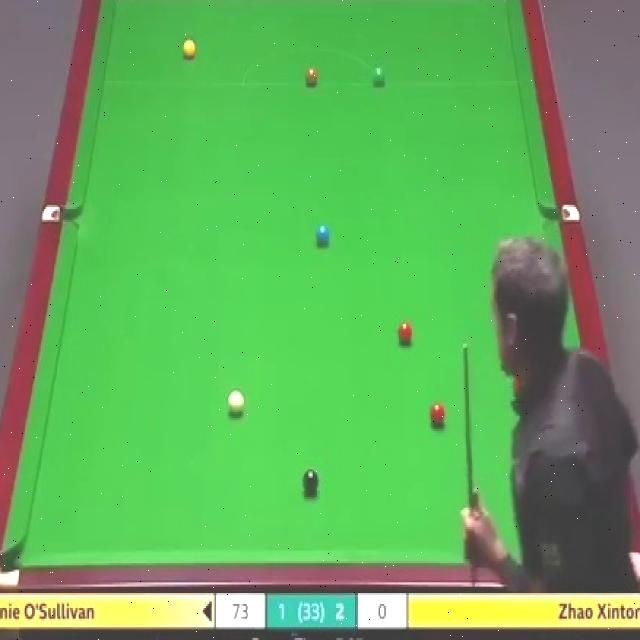black-ball: (302, 466, 320, 494)
blue-ball: (316, 221, 330, 249)
brown-ball: (304, 67, 320, 86)
green-ball: (371, 65, 387, 88)
red-ball: (396, 321, 416, 349), (428, 405, 447, 431)
white-ball: (227, 386, 244, 416)
yellow-ball: (183, 41, 196, 61)
